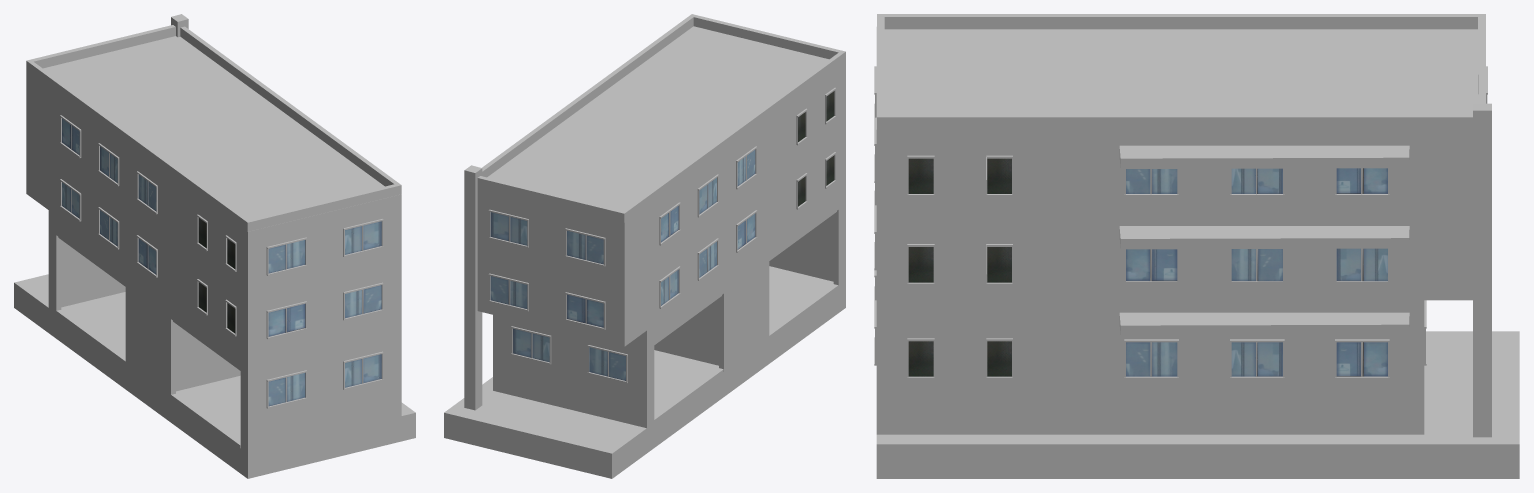
File: bldg_mall_08c.fbx
3 views of the same model, side by side, from view 1: azimuth 30°, elevation 25°; view 2: azimuth 150°, elevation 25°; view 3: azimuth 270°, elevation 25° (orthographic). The views are drawn at different scales.
Parts seen in each view (by area): view 1: bldg_mall_08c; view 2: bldg_mall_08c; view 3: bldg_mall_08c.
Boxes of the visible parts, x1,y1,x2,y2 form: bldg_mall_08c: (14, 14, 415, 478); bldg_mall_08c: (444, 14, 845, 478); bldg_mall_08c: (874, 14, 1519, 478).
Size of the model in its own units: 7.47 by 10.76 by 17.41.
